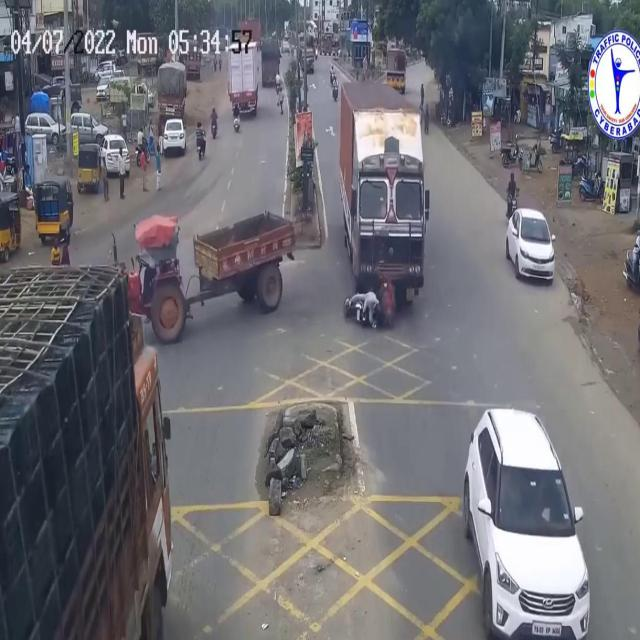accident: (334, 72, 432, 337)
non_accident: (0, 207, 298, 640), (66, 104, 134, 204), (148, 57, 196, 175)
